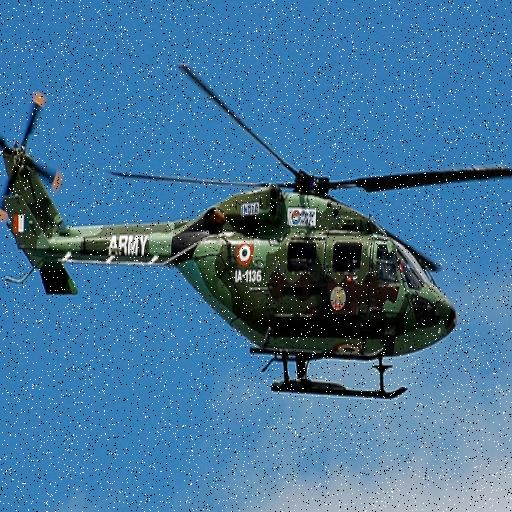helicopter: (1, 65, 512, 407)
